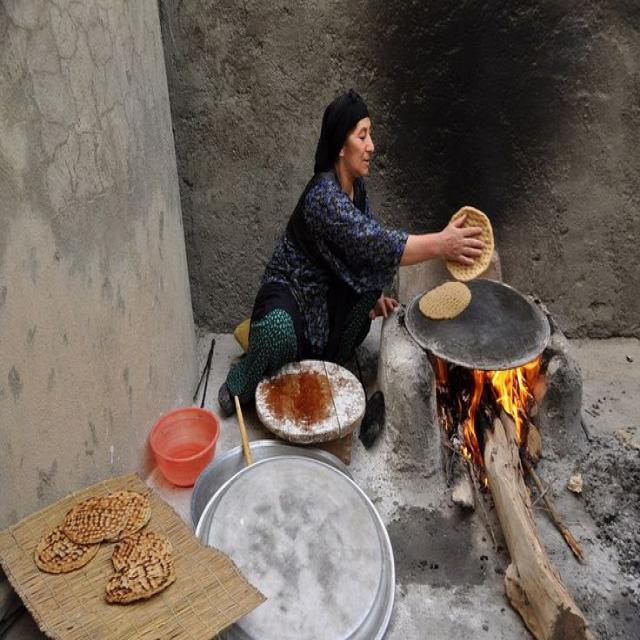fire: (433, 356, 540, 488)
